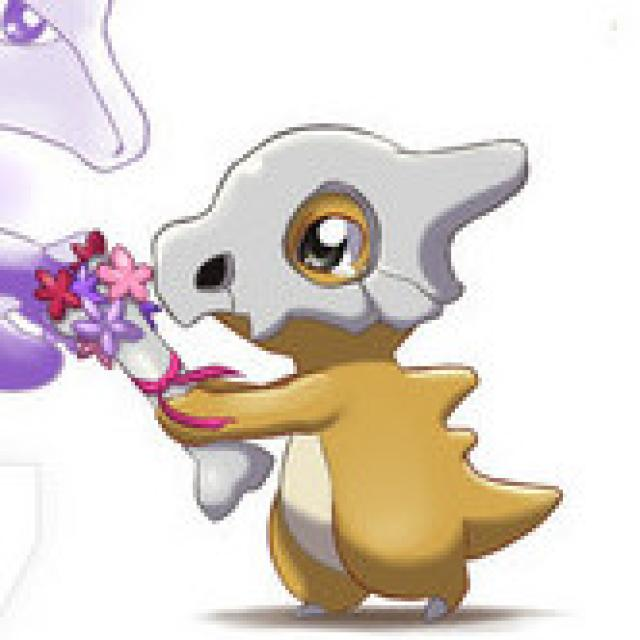Cubone: (142, 116, 567, 617)
